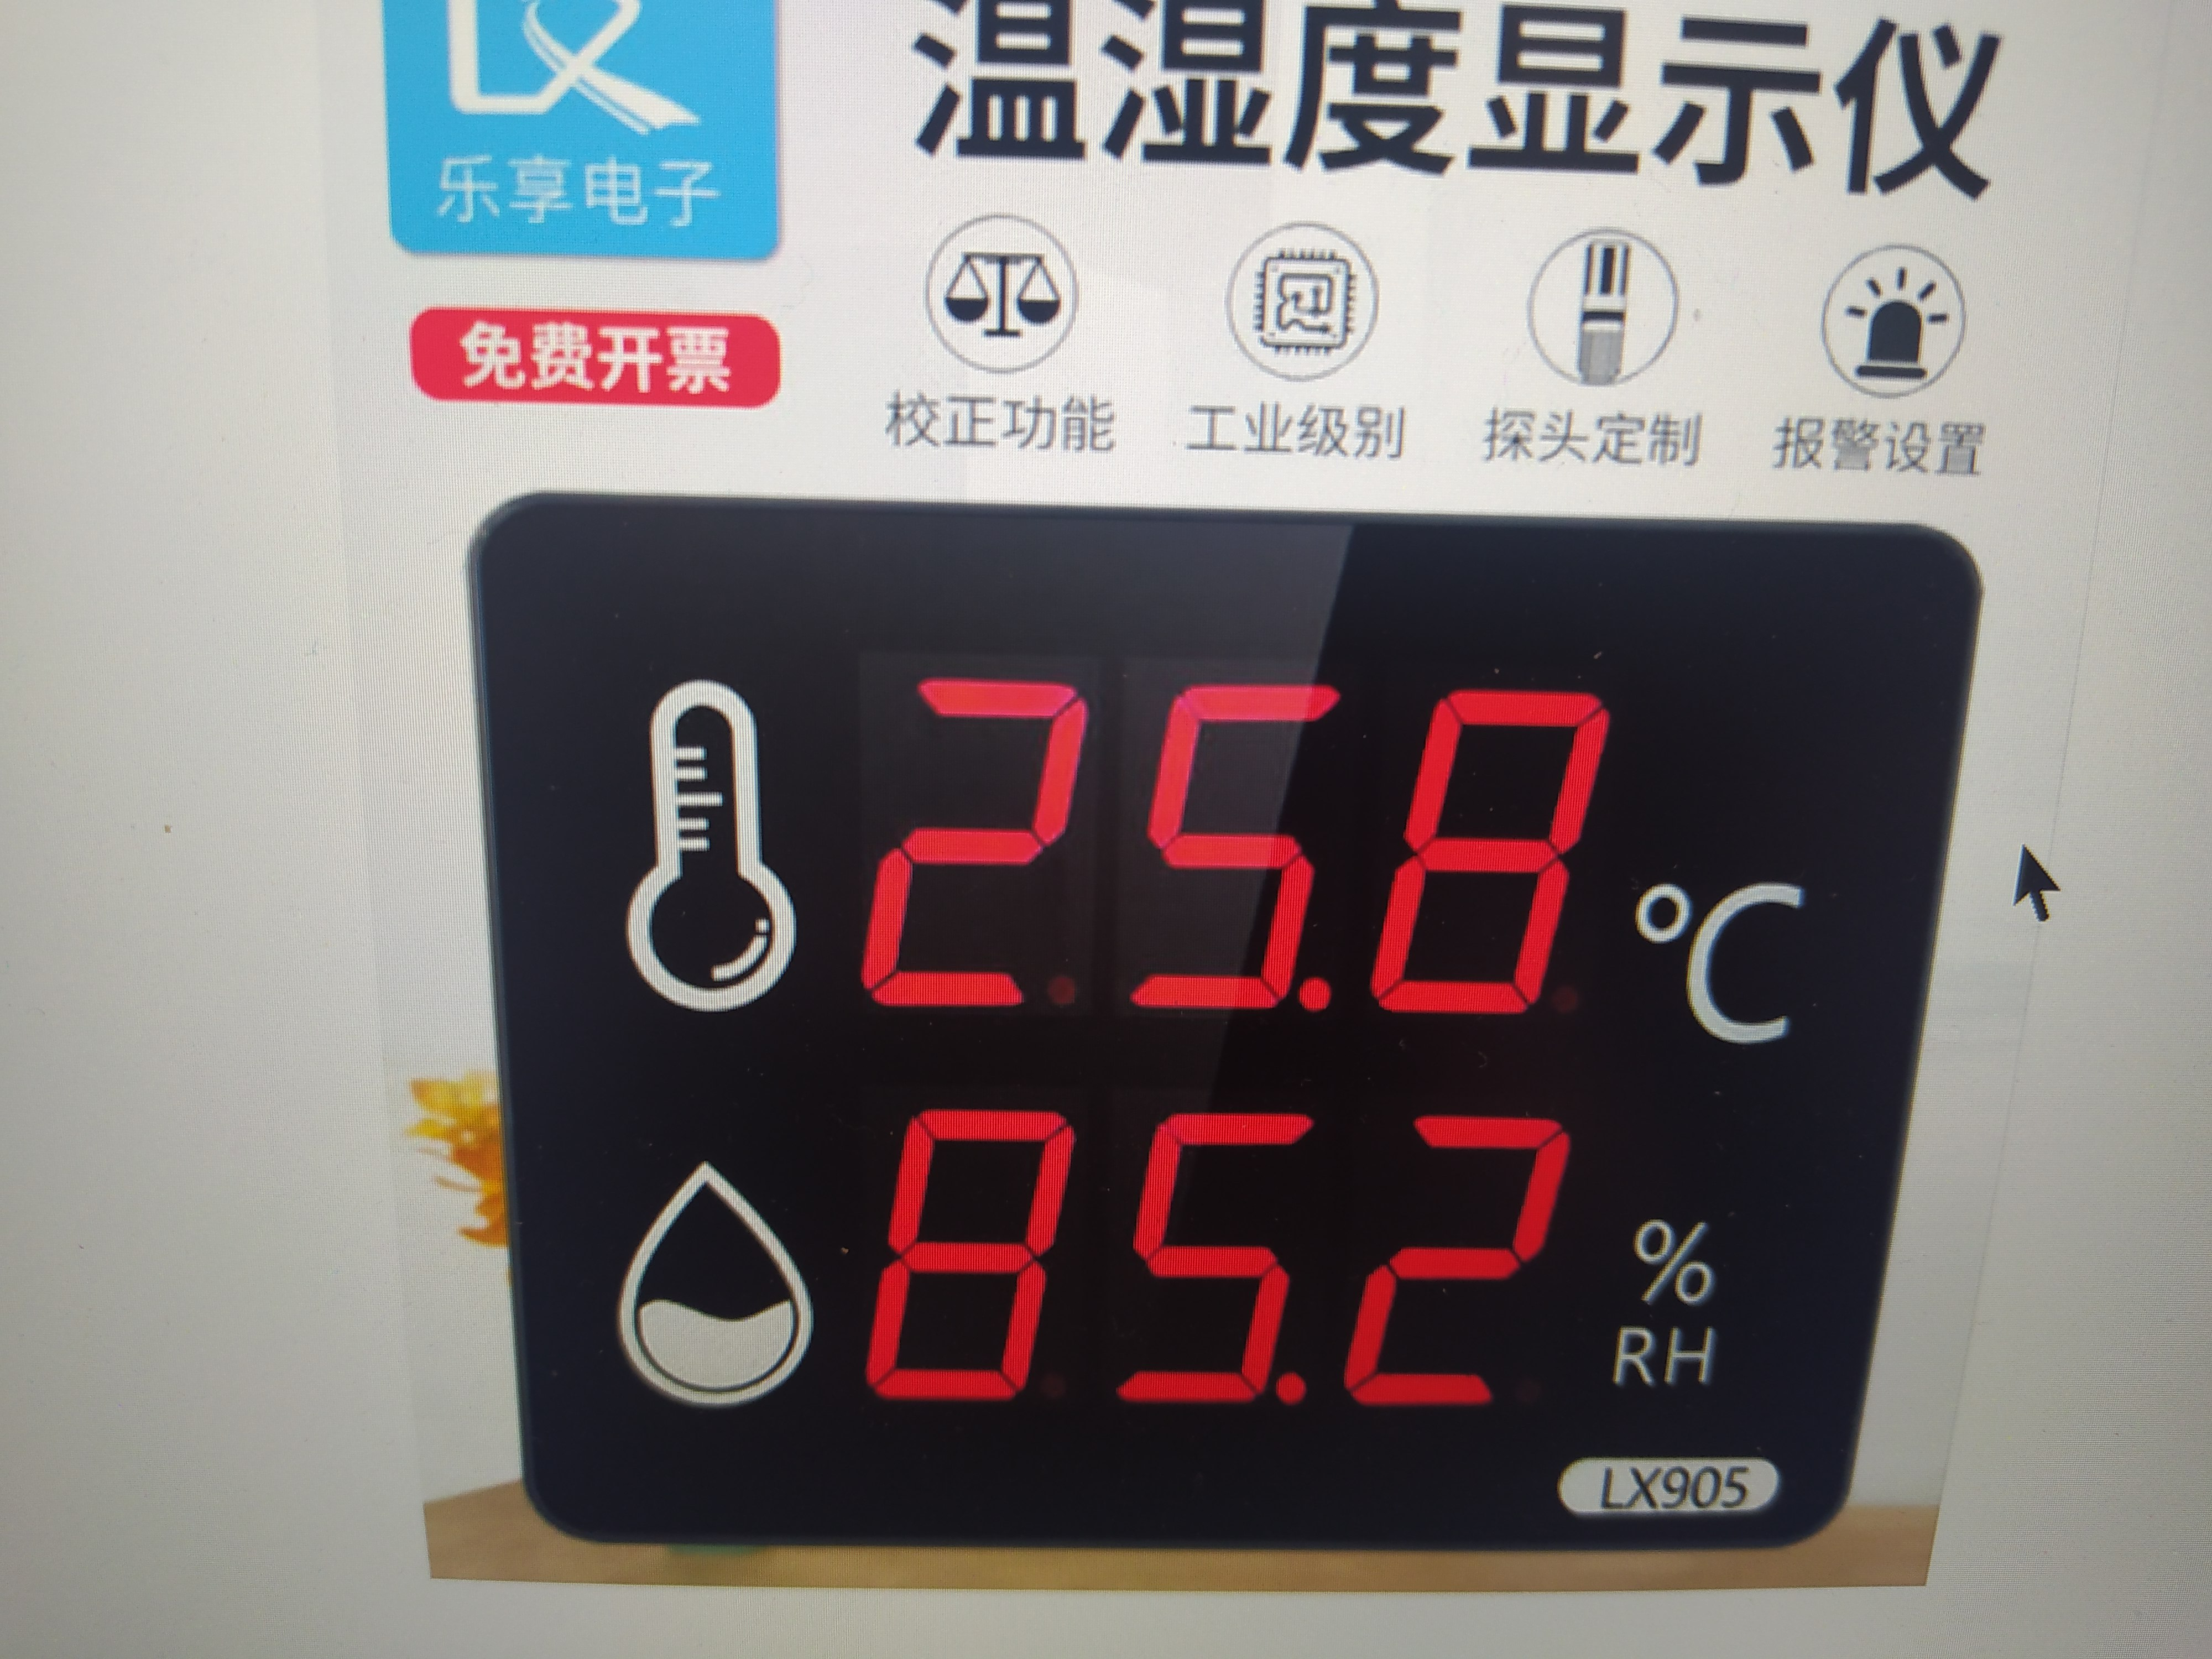.: (1305, 692, 1338, 1011), (1278, 1114, 1310, 1401)
2: (862, 680, 1085, 1009), (1345, 1112, 1571, 1408)
5: (1137, 681, 1338, 1006), (1134, 1112, 1298, 1399)
8: (1374, 685, 1609, 1021), (864, 1110, 1071, 1401)
